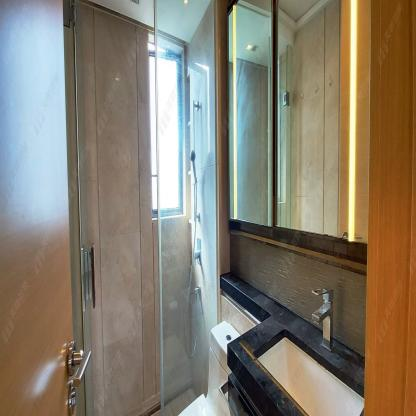Faucet: (309, 276, 337, 352)
Toilet: (177, 317, 238, 416)
Toilet Sink: (227, 315, 364, 416)
Water Cubicle: (73, 0, 219, 416)
